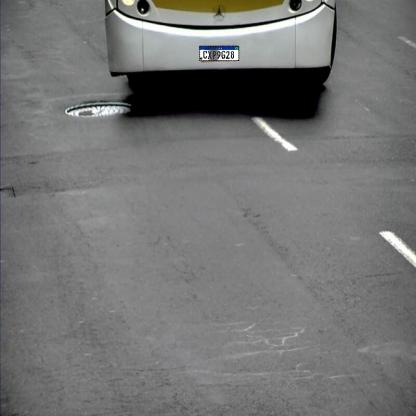PlacaM: (199, 46, 239, 61)
